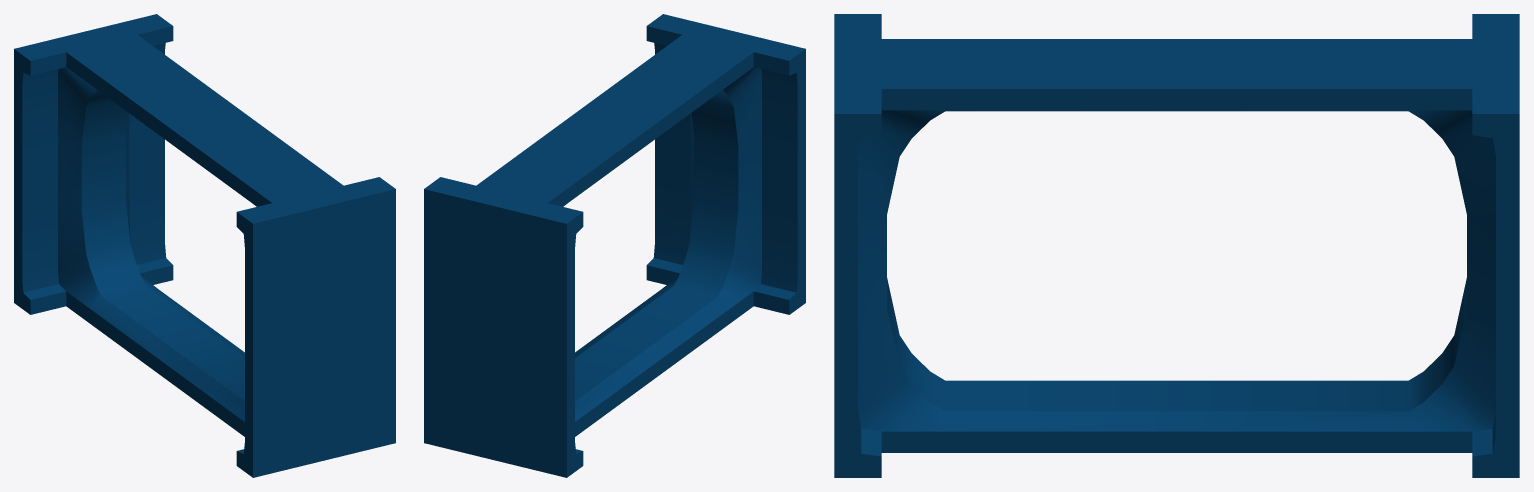
File: SM_MidSpan-Cooridor_E.fbx
3 views of the same model, side by side, from view 1: azimuth 30°, elevation 25°; view 2: azimuth 150°, elevation 25°; view 3: azimuth 270°, elevation 25° (orthographic). The views are drawn at different scales.
Parts seen in each view (by area): view 1: SM_MidSpan-Cooridor_E; view 2: SM_MidSpan-Cooridor_E; view 3: SM_MidSpan-Cooridor_E.
Part boxes in pixels (left/top/right/bottom): SM_MidSpan-Cooridor_E: left=14, top=14, right=395, bottom=477; SM_MidSpan-Cooridor_E: left=424, top=14, right=805, bottom=477; SM_MidSpan-Cooridor_E: left=834, top=14, right=1519, bottom=477.
Bounding box in the file's own units: 200 × 580 × 340.
